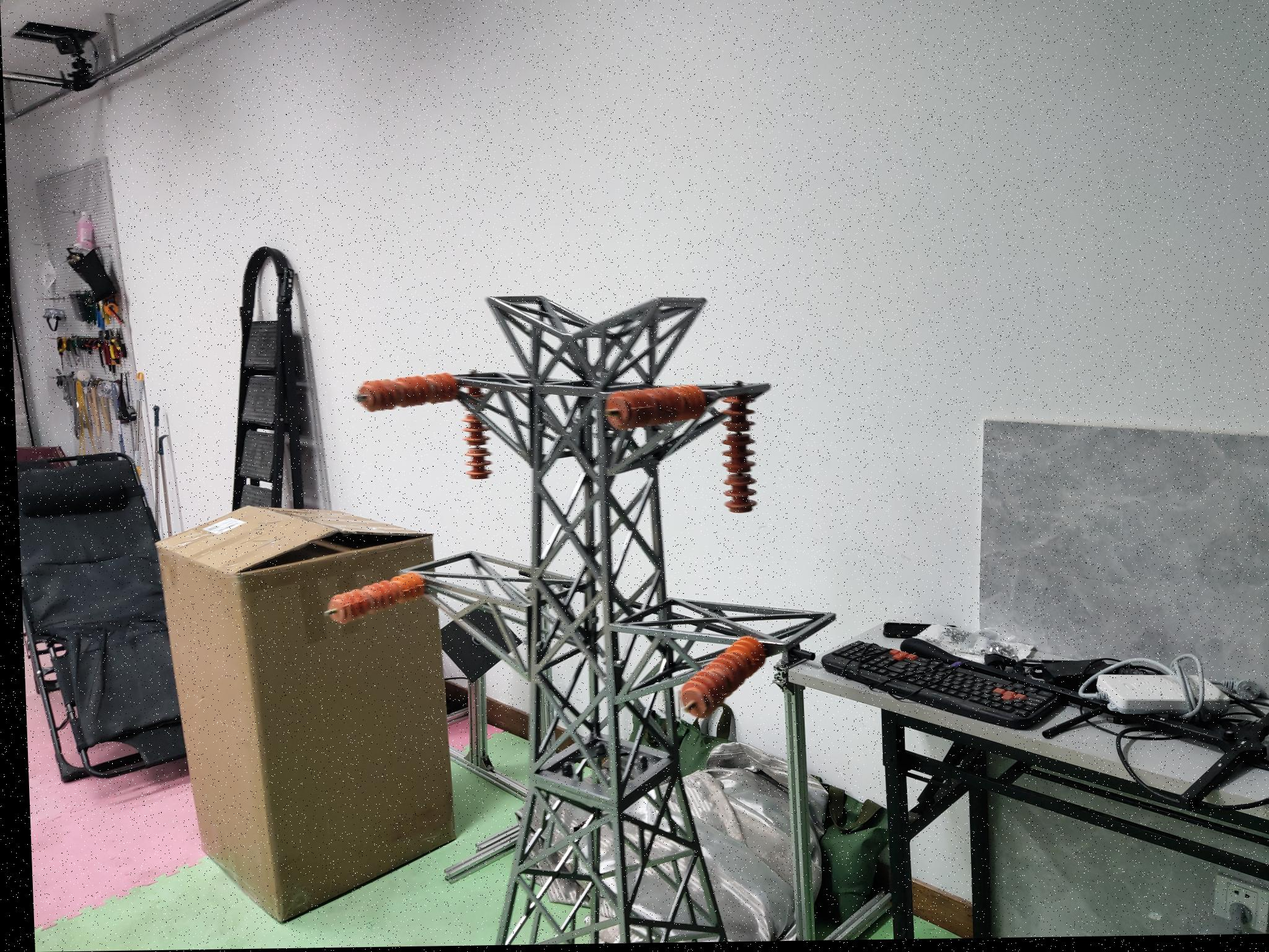tower: (388, 288, 807, 946)
